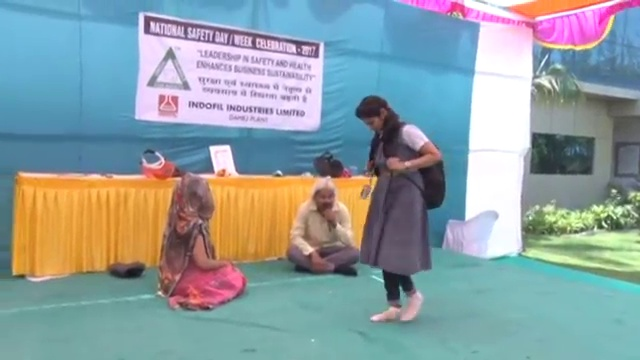helmet_off: (171, 174, 215, 220), (353, 95, 391, 138), (312, 179, 336, 215)
person: (351, 94, 446, 326), (154, 172, 248, 313), (287, 176, 362, 278)
